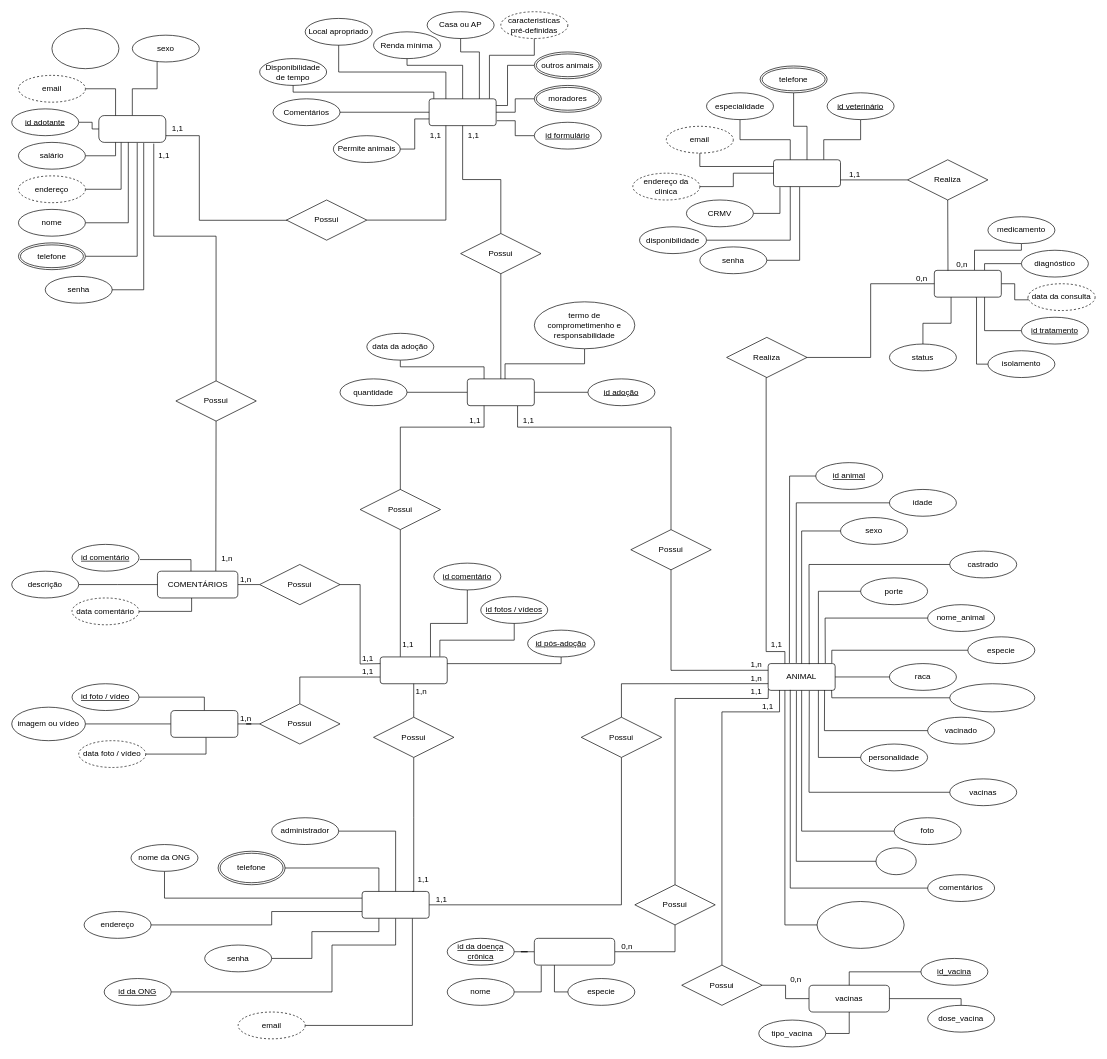
The diagram is 1107 pixels wide and 1059 high, and some of its shapes have lost their labels. Here are the shapes that lost their labels. From the top down, the centre of each, then its label:
At point 85,48: "data de nascimento".
At point 132,128: "ADOTANTE".
At point 462,112: "FORMULÁRIO".
At point 807,173: "VETERINÁRIO".
At point 967,283: "TRATAMENTO".
At point 500,392: "ADOÇÃO".
At point 413,670: "PÓS-ADOÇÃO".
At point 992,697: "precisa_tratamento".
At point 204,723: "FOTO / VÍDEOS".
At point 895,861: "cor".
At point 395,904: "ONG".
At point 860,924: "data em que o animal foi resgatado".
At point 574,951: "Doenças Cronicas".
